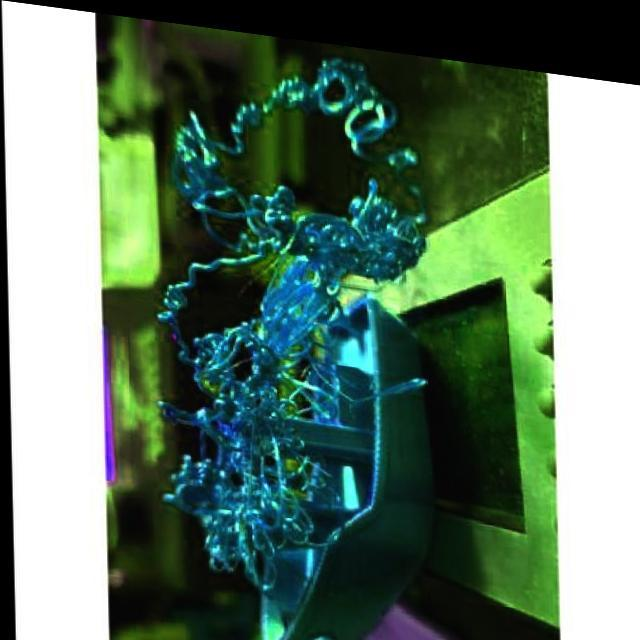spaghetti: (142, 28, 431, 603)
